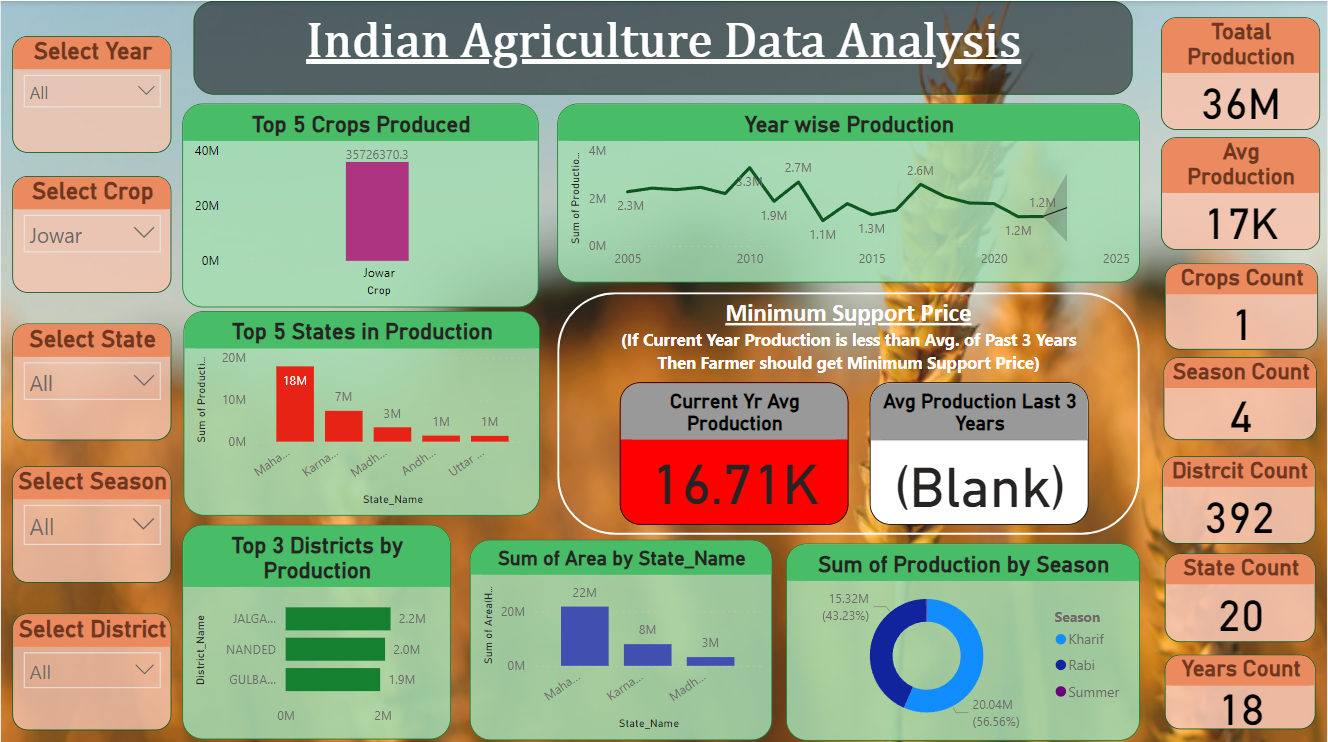

The page's visual inventory and layout, read from the dashboard file:
{"tool":"powerbi","page":{"name":"Home Page","canvas":[1280,720],"ordinal":2},"visuals":[{"type":"textbox","box":[185.8,0,906,90.5],"z":0},{"type":"slicer","title":"Select Year","fields":{"Values":["apy_1.Crop_Year"]},"box":[11,34.3,153.7,112.5],"z":1000},{"type":"slicer","title":"Select Crop","fields":{"Values":["apy_1.Crop"]},"box":[11,168.8,153.7,112.5],"z":2000},{"type":"slicer","title":"Select State","fields":{"Values":["apy_1.State_Name"]},"box":[11,311.5,153.7,112.5],"z":3000},{"type":"slicer","title":"Select Season","fields":{"Values":["apy_1.Season"]},"box":[11,448.7,153.7,112.5],"z":4000},{"type":"slicer","title":"Select District","fields":{"Values":["apy_1.District_Name"]},"box":[11,591.4,153.7,112.5],"z":5000},{"type":"columnChart","title":"Top 5 Crops Produced","fields":{"Category":["apy_1.Crop"],"Y":["Sum(apy_1.Production(Tons))"]},"box":[174.9,98.9,343.8,196.6],"z":6000},{"type":"columnChart","title":"Top 5 States in Production","fields":{"Category":["apy_1.State_Name"],"Y":["Sum(apy_1.Production(Tons))"]},"box":[176.1,299.2,343.8,197.9],"z":7000},{"type":"donutChart","title":"Sum of Production by Season","fields":{"Y":["Sum(apy_1.Production(Tons))"],"Category":["apy_1.Season"]},"box":[757.6,523.6,341.4,190.6],"z":8000},{"type":"barChart","title":"Top 3 Districts by Production","fields":{"Category":["apy_1.District_Name"],"Y":["Sum(apy_1.Production(Tons))"]},"box":[174.9,505.5,259.4,207.5],"z":9000},{"type":"lineChart","title":"Year wise Production","fields":{"Category":["apy_1.Crop_Year"],"Y":["Sum(apy_1.Production(Tons))"]},"box":[536.9,98.9,562.2,172.5],"z":10000},{"type":"shape","box":[536.9,281.1,562.2,234],"z":11000},{"type":"textbox","box":[536.9,281.1,562.2,86.9],"z":12000},{"type":"card","title":"Current Yr Avg Production","fields":{"Values":["apy_1.Avg Production"]},"box":[597.2,368,220.8,137.5],"z":13000},{"type":"card","title":"Avg Production Last 3 Years","fields":{"Values":["apy_1.AverageProductionLastThreeYears"]},"box":[838.5,368,211.1,137.5],"z":14000},{"type":"card","title":"Toatal Production","fields":{"Values":["apy_1.Total Production"]},"box":[1119.6,15.7,153.2,108.6],"z":15000},{"type":"card","title":"Avg Production","fields":{"Values":["apy_1.Avg Production"]},"box":[1119.6,131.5,153.2,108.6],"z":16000},{"type":"card","title":"State Count","fields":{"Values":["apy_1.State Count"]},"box":[1123.2,533.2,146,85.7],"z":17000},{"type":"card","title":"Distrcit Count","fields":{"Values":["apy_1.Distinct District"]},"box":[1120.8,439.1,148.4,84.5],"z":18000},{"type":"card","title":"Season Count","fields":{"Values":["apy_1.Season Count"]},"box":[1122,343.8,148.4,79.6],"z":19000},{"type":"card","title":"Crops Count","fields":{"Values":["apy_1.No. of Crops"]},"box":[1123.2,253.4,148.4,83.2],"z":20000},{"type":"card","title":"Years Count","fields":{"Values":["apy_1.Years Count"]},"box":[1123.2,631,146,72.4],"z":21000},{"type":"columnChart","title":"Sum of Area by State_Name","fields":{"Category":["apy_1.State_Name"],"Y":["Sum(apy_1.Area(Hectare))"]},"box":[452.8,520.1,292.3,193.5],"z":22000}]}

Visuals, with their boxes in screenshot pixels (x1, y1, x2, y2), scaled from the page's 1280x720 canvas onto the 1328x742 screenshot:
textbox: 193,0,1133,93
"Select Year" slicer: 11,35,171,151
"Select Crop" slicer: 11,174,171,290
"Select State" slicer: 11,321,171,437
"Select Season" slicer: 11,462,171,578
"Select District" slicer: 11,609,171,725
"Top 5 Crops Produced" columnChart: 181,102,538,305
"Top 5 States in Production" columnChart: 183,308,539,512
"Sum of Production by Season" donutChart: 786,540,1140,736
"Top 3 Districts by Production" barChart: 181,521,451,735
"Year wise Production" lineChart: 557,102,1140,280
shape: 557,290,1140,531
textbox: 557,290,1140,379
"Current Yr Avg Production" card: 620,379,849,521
"Avg Production Last 3 Years" card: 870,379,1089,521
"Toatal Production" card: 1162,16,1321,128
"Avg Production" card: 1162,136,1321,247
"State Count" card: 1165,549,1317,638
"Distrcit Count" card: 1163,453,1317,540
"Season Count" card: 1164,354,1318,436
"Crops Count" card: 1165,261,1319,347
"Years Count" card: 1165,650,1317,725
"Sum of Area by State_Name" columnChart: 470,536,773,735
